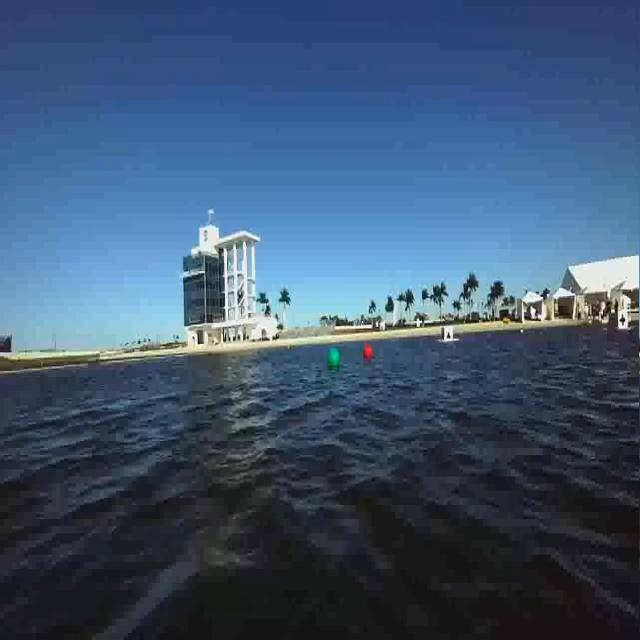green-buoy: (326, 348, 340, 368)
red-buoy: (364, 340, 382, 367)
